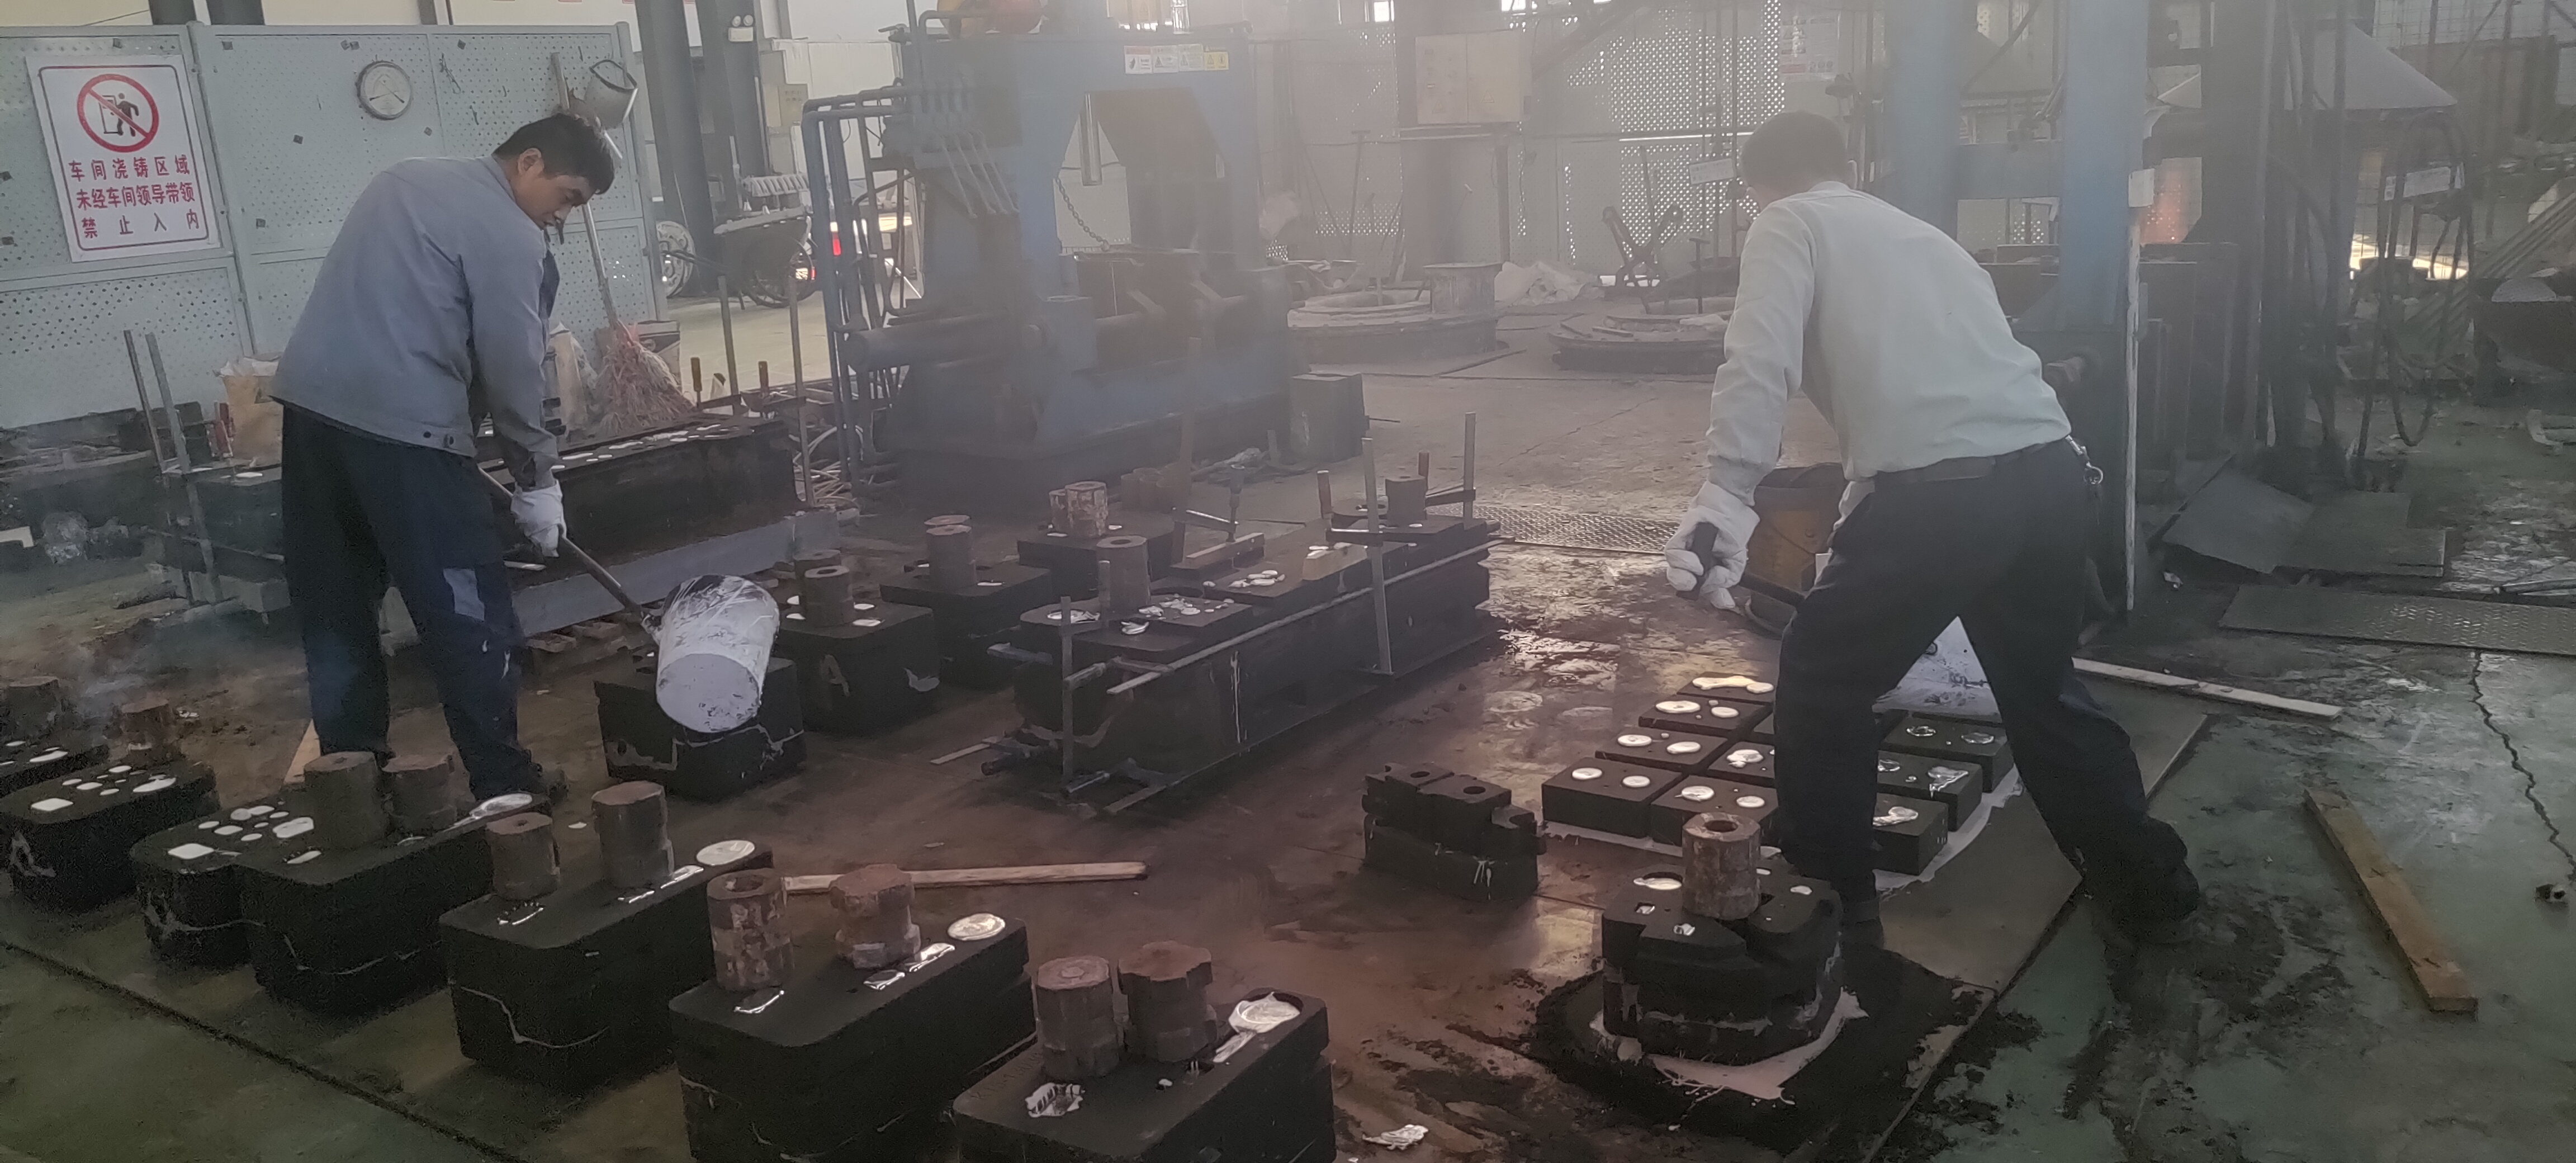pouring hole: (1235, 994, 1304, 1025), (948, 912, 1004, 941), (698, 838, 754, 864), (478, 792, 531, 815), (1638, 871, 1684, 892), (133, 774, 177, 795), (273, 818, 312, 836), (28, 747, 69, 764), (404, 468, 445, 483), (1620, 774, 1651, 788), (1046, 609, 1081, 623), (1889, 805, 1919, 820), (1963, 731, 1994, 744), (1572, 767, 1603, 779), (1906, 724, 1937, 736), (1355, 501, 1385, 513), (1829, 719, 1853, 733), (1671, 741, 1699, 752), (669, 634, 690, 649), (1774, 754, 1797, 767), (1837, 802, 1860, 815), (182, 465, 212, 475), (912, 557, 933, 570), (486, 424, 508, 437), (1875, 759, 1898, 770), (1774, 718, 1797, 729), (1932, 769, 1958, 779), (787, 595, 808, 606), (1050, 517, 1070, 529), (1684, 788, 1707, 798), (1740, 797, 1763, 807), (1732, 752, 1753, 762), (1714, 708, 1738, 716), (1622, 738, 1644, 746), (1669, 705, 1692, 713), (1705, 677, 1723, 687), (706, 430, 731, 437), (1751, 685, 1771, 693)
